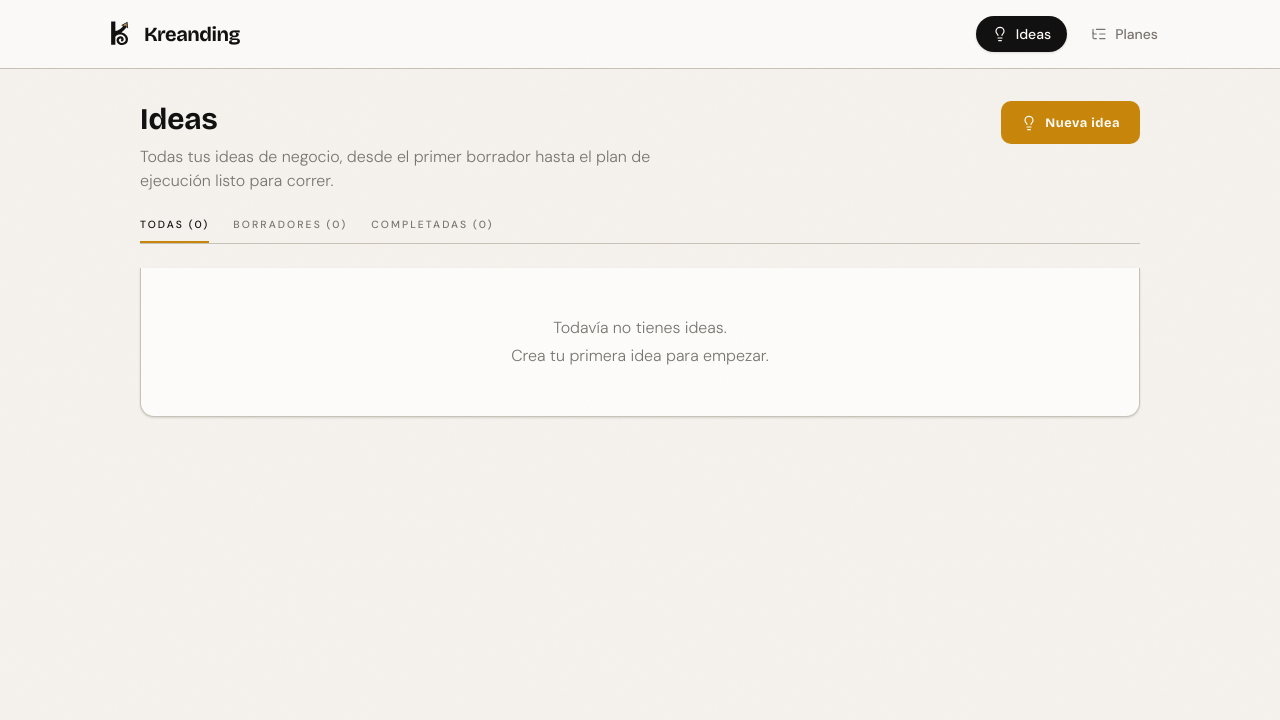
Test case: Creación de idea › crea la idea y avanza a la primera pregunta
expect the text "Todavía no tienes ideas." is shown: met, box [553, 317, 727, 338]
Click the button "Nueva idea".
click(1071, 123)  # box [1001, 101, 1140, 144]
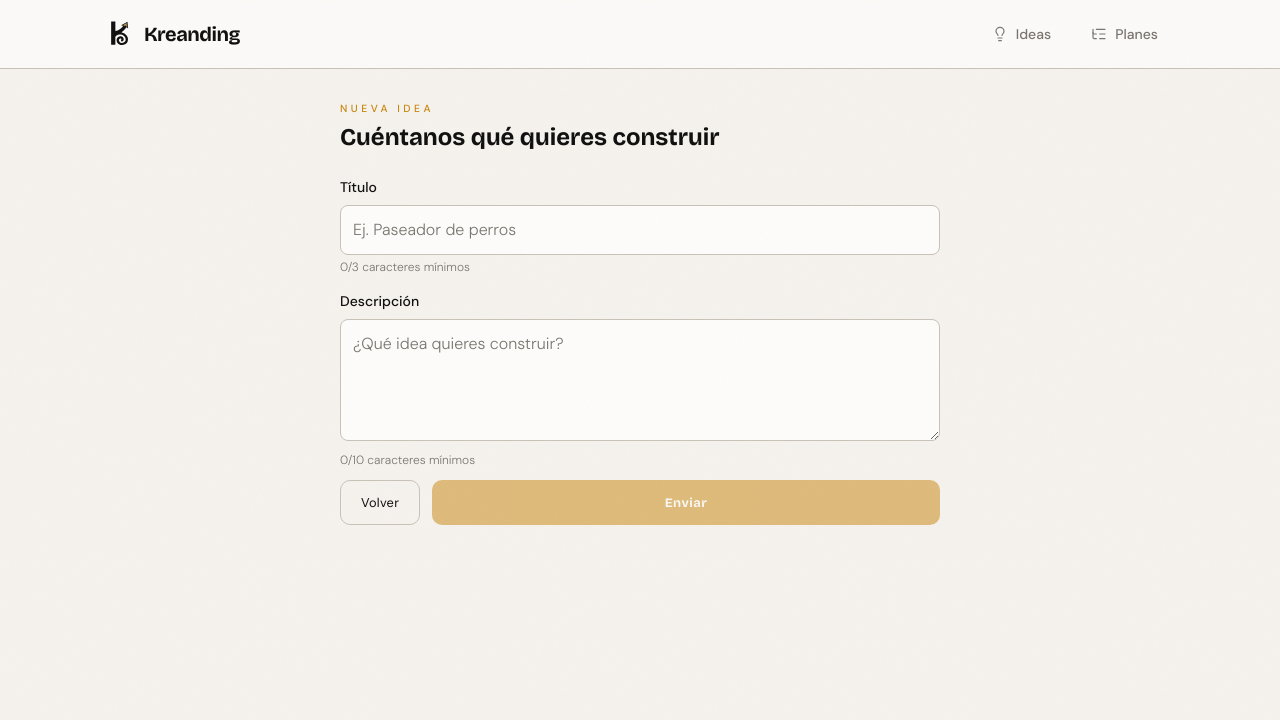
expect the field labelled "Título" is shown: met
Type "Paseador de perros" into the field labelled "Título".
click(640, 230); type("Paseador de perros")  # box [340, 205, 940, 255]
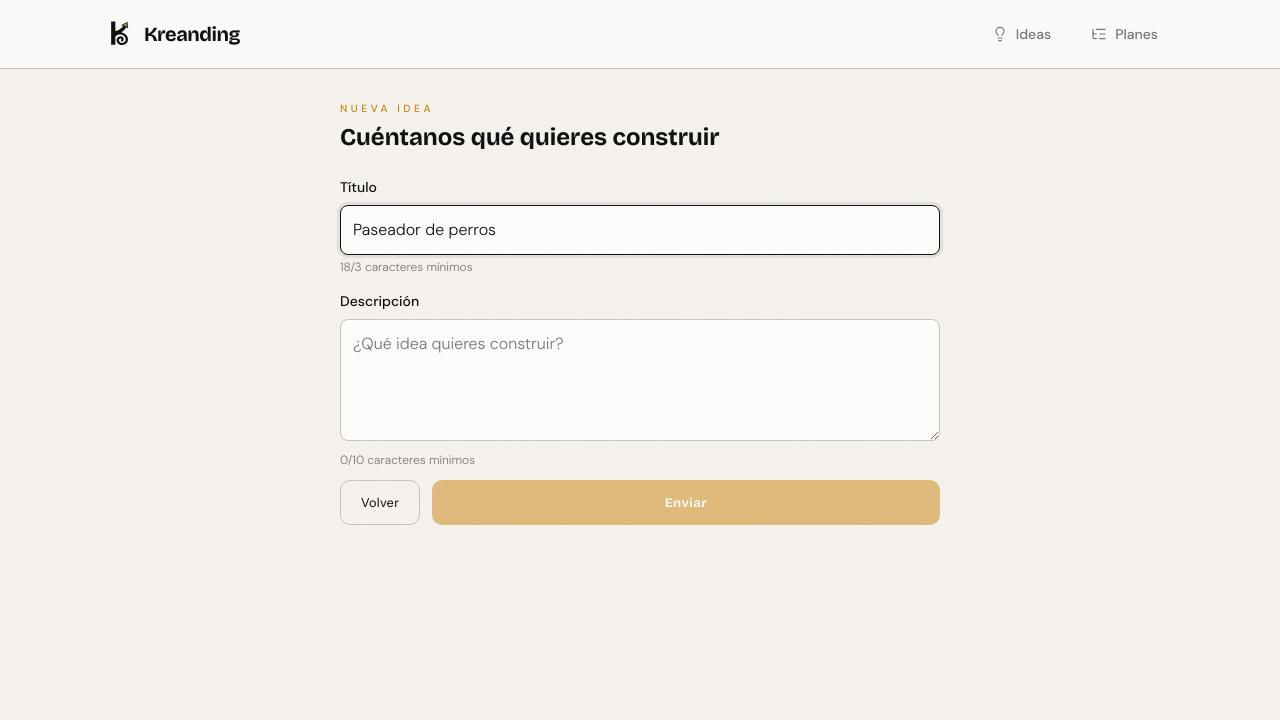
Type "Una app para pasear perros en Bogotá" into the text box labelled "Descripción".
click(640, 380); type("Una app para pasear perros en Bogotá")  # box [340, 319, 940, 441]
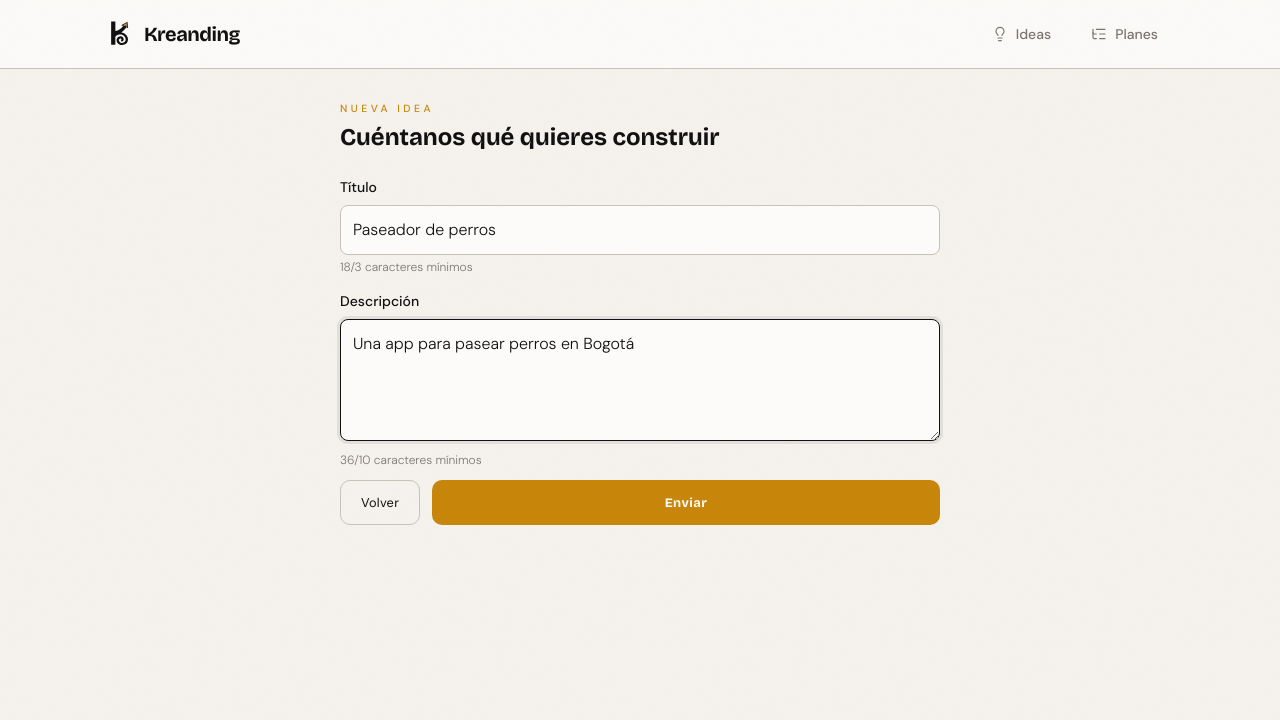
Click the button "Enviar".
click(686, 502)  # box [432, 480, 940, 525]
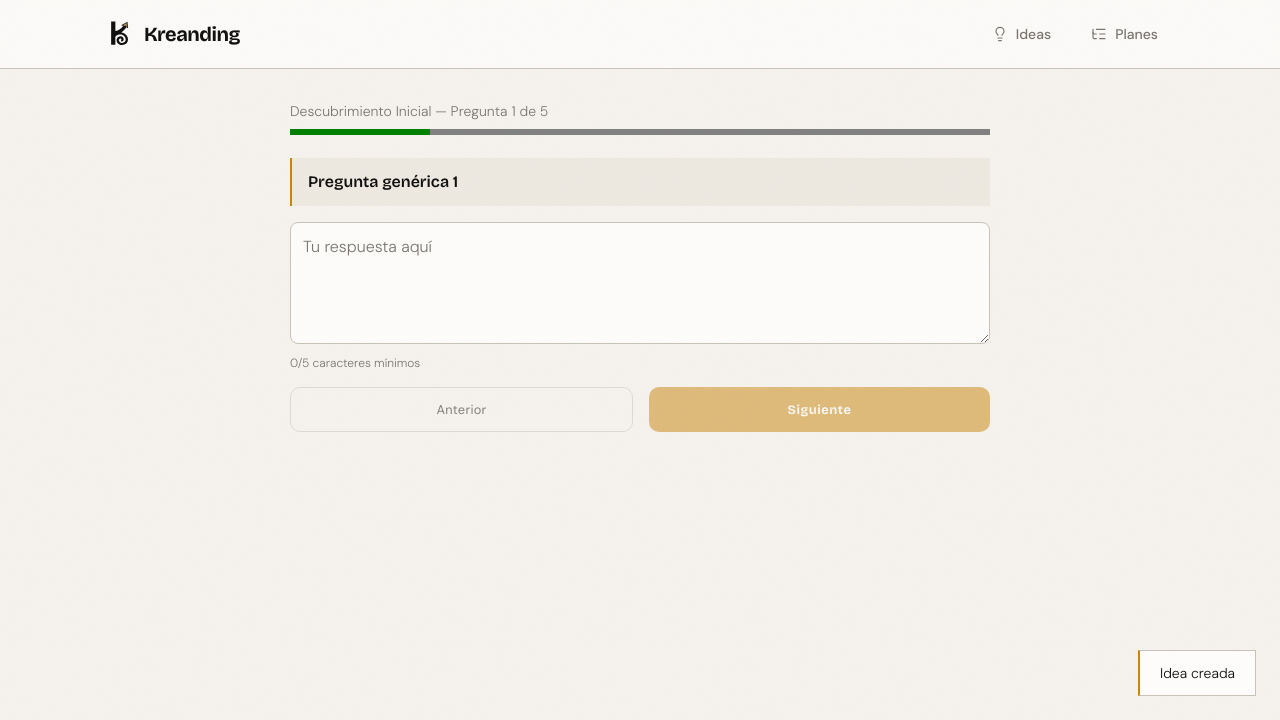
expect the text "Descubrimiento Inicial — Pregunta 1 de 5" is shown: met, box [290, 102, 548, 120]
expect the text "Pregunta genérica 1" is shown: met, box [308, 172, 458, 191]
